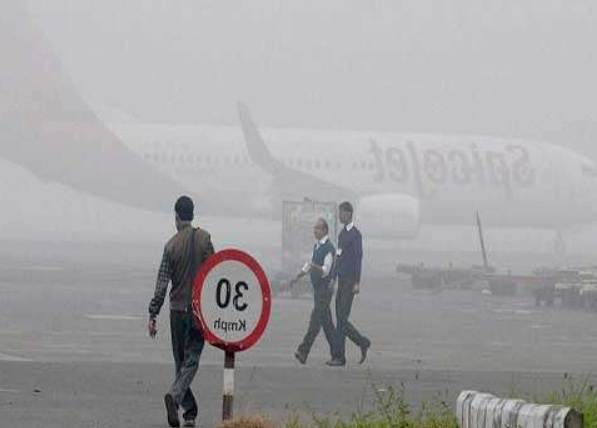Speed limit: (186, 247, 281, 352)
